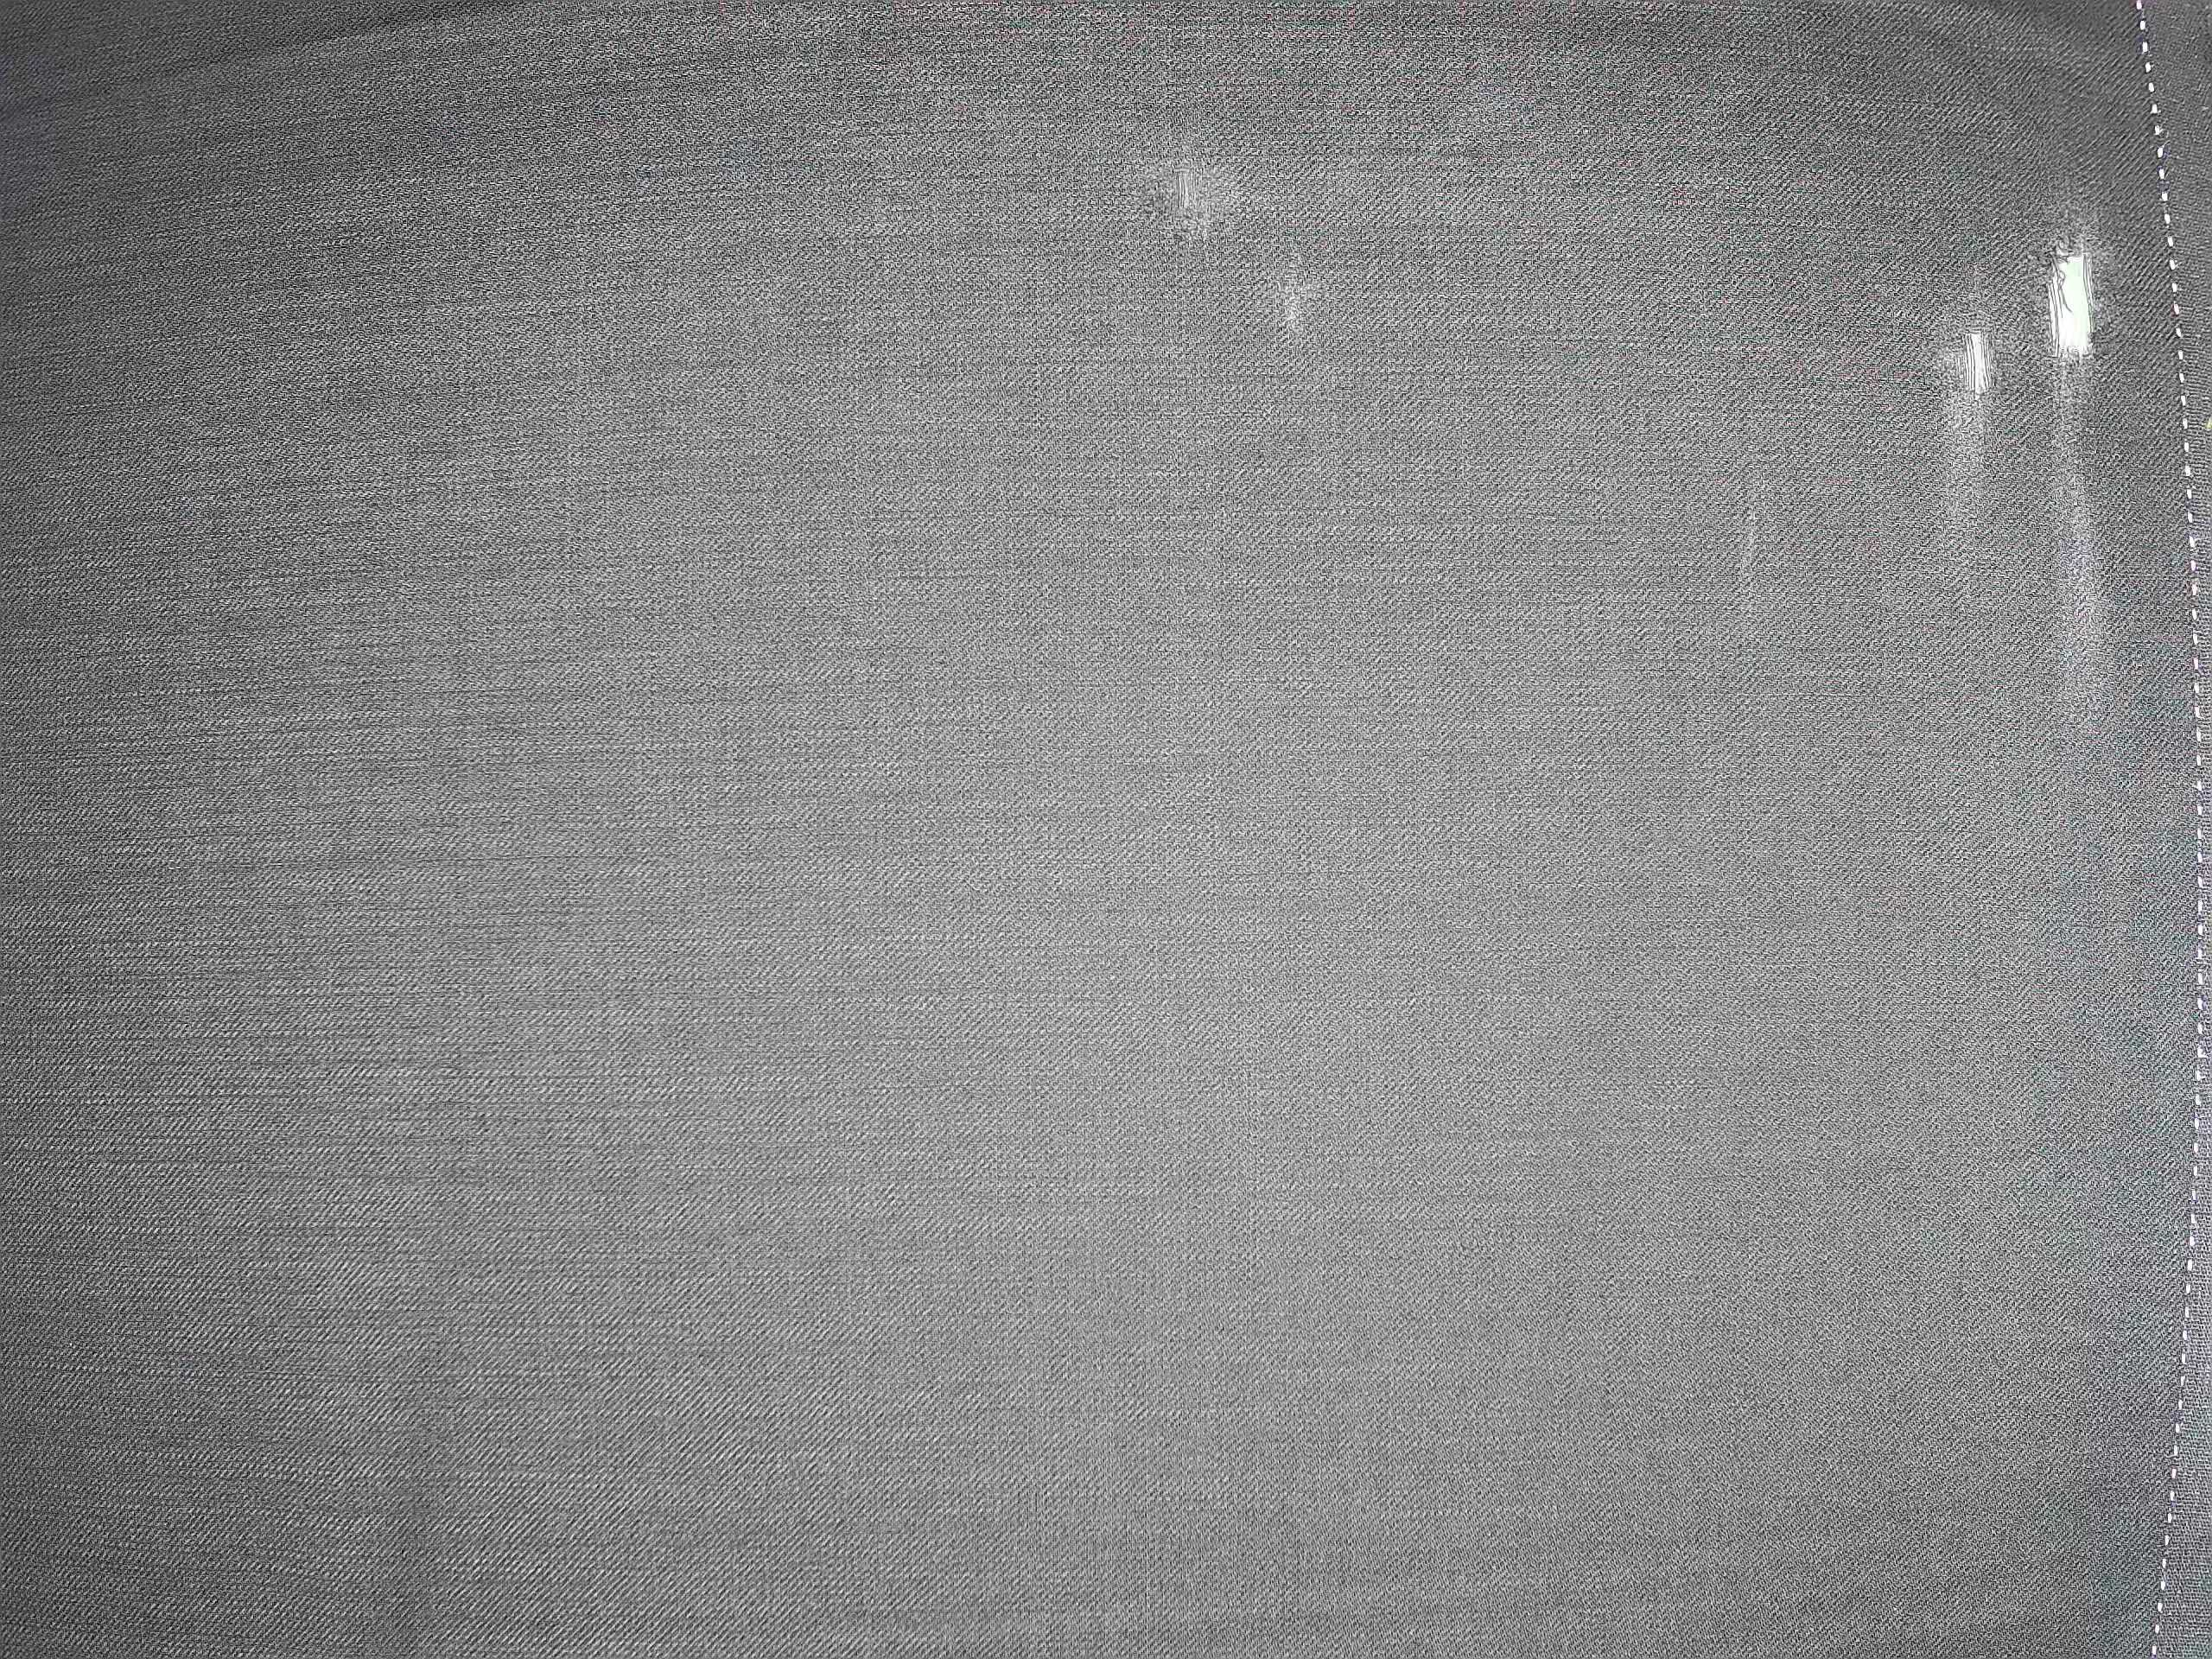rubbing-hole: (1129, 131, 1247, 258), (2038, 227, 2116, 371), (1937, 314, 2013, 408), (1259, 274, 1331, 345)
